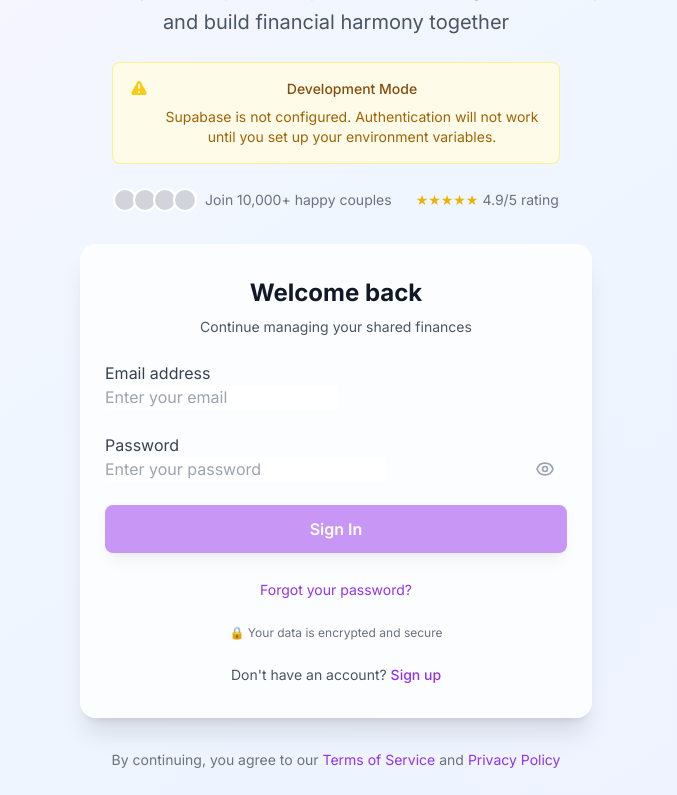
it: LoginForm › Rendering › renders signup form when toggled
(page scrolled)
Step 1. Click the button "Sign up" → [416, 675], box [391,665,441,685]
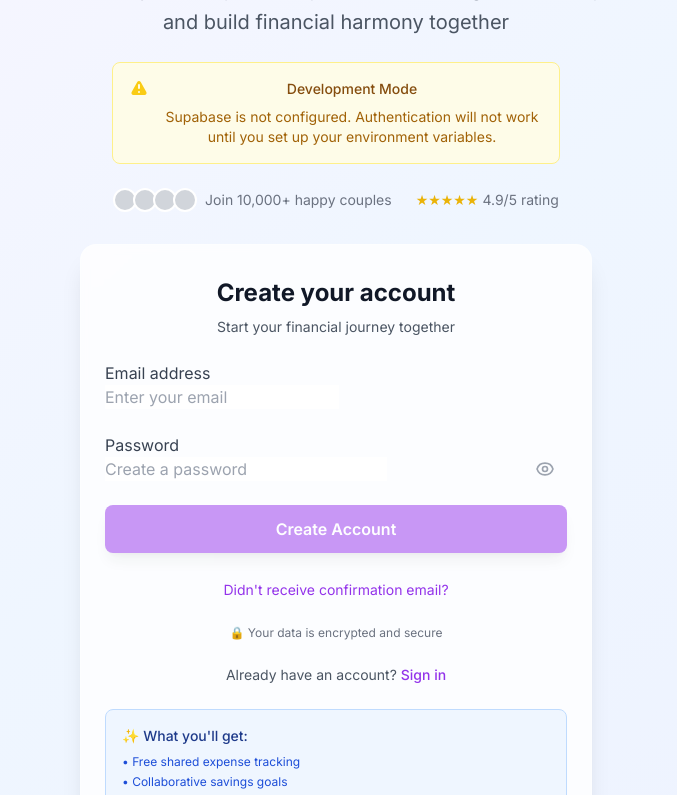
Result: the heading "Create your account" is shown at [217,278,455,307]
Result: the button "Create Account" is shown at [105,505,567,553]
